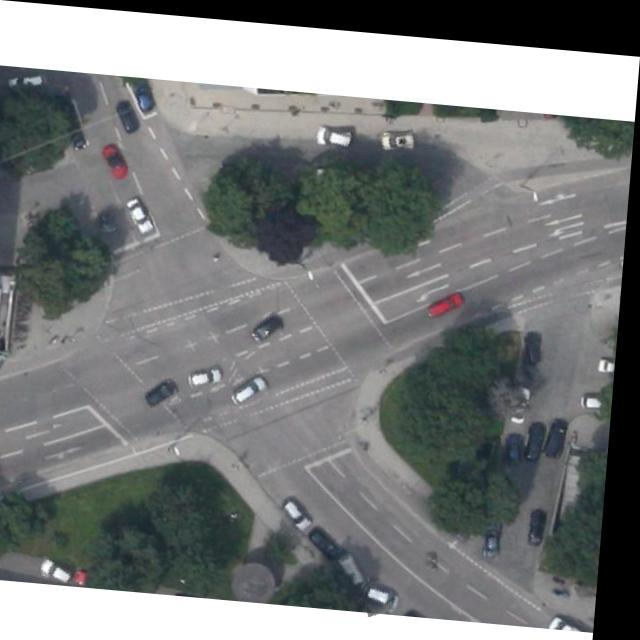vehicle: (339, 544, 384, 586), (370, 569, 413, 609), (232, 366, 277, 403), (430, 279, 471, 312), (190, 356, 230, 389), (127, 191, 159, 232), (315, 519, 351, 555), (252, 305, 290, 339), (148, 373, 186, 406), (102, 138, 133, 178), (114, 94, 145, 132), (129, 76, 160, 111), (10, 67, 50, 94), (486, 508, 513, 548), (550, 406, 575, 447), (289, 494, 321, 525), (530, 410, 554, 451), (317, 118, 356, 142), (48, 557, 84, 582), (508, 420, 533, 456), (525, 319, 549, 355), (382, 121, 418, 144), (534, 497, 555, 535), (98, 205, 123, 232)
